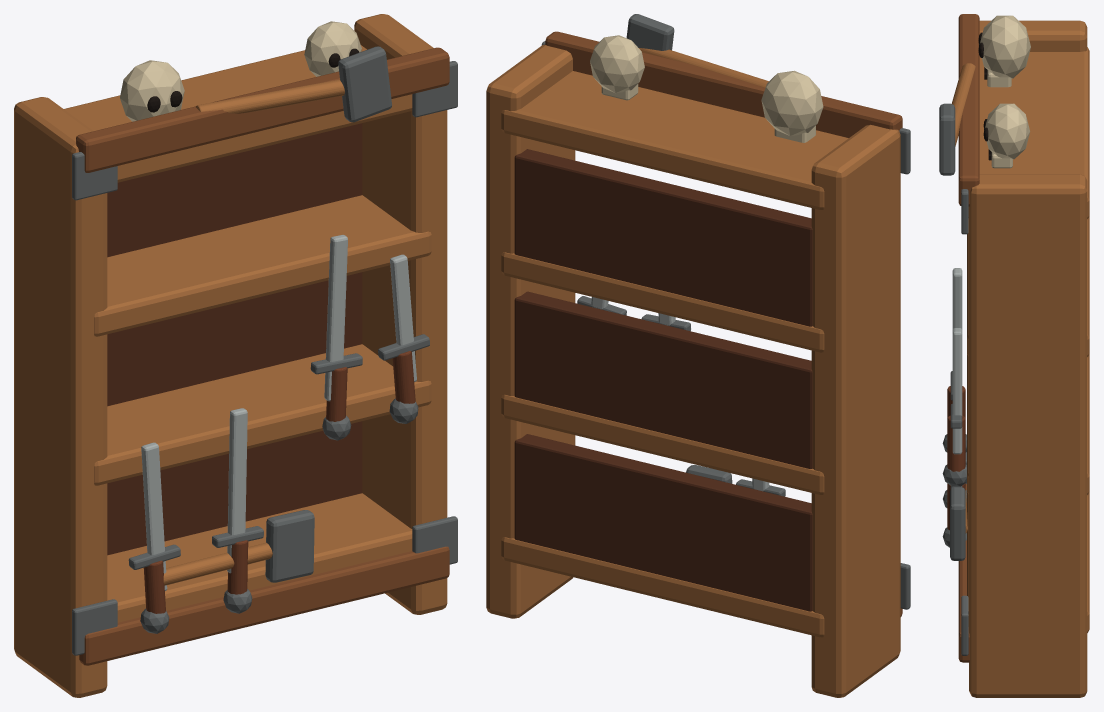
The model's file is estante_armas_cranios.glb.
The picture shows the model from 3 angles, left to right: view 1: azimuth 30°, elevation 25°; view 2: azimuth 150°, elevation 25°; view 3: azimuth 270°, elevation 25°; orthographic projection. The views are drawn at different scales.
Parts seen in each view (by area): view 1: poste esquerdo, poste direito, prateleira.002, prateleira.001, painel traseiro.002, painel traseiro.001, painel traseiro, travessa frontal, prateleira, travessa frontal.001, prateleira.003, machado superior lâmina (+17 smaller); view 2: poste esquerdo, painel traseiro, painel traseiro.001, painel traseiro.002, prateleira.003, poste direito, prateleira.002, prateleira, prateleira.001, travessa frontal.001, crânio esquerdo calota, crânio direito calota (+2 smaller); view 3: poste direito, prateleira.003, travessa frontal.001, crânio esquerdo calota, poste esquerdo, crânio direito calota, espada curta lâmina, machado superior lâmina, machado inferior lâmina, machado superior cabo, travessa frontal, prateleira.001 (+9 smaller).
Part boxes in pixels (x1=…): poste esquerdo: x1=14, y1=97, x2=107, y2=697; poste direito: x1=354, y1=14, x2=447, y2=614; prateleira.002: x1=94, y1=195, x2=431, y2=336; prateleira.001: x1=94, y1=344, x2=431, y2=485; painel traseiro.002: x1=107, y1=123, x2=362, y2=257; painel traseiro.001: x1=107, y1=272, x2=362, y2=406; painel traseiro: x1=107, y1=421, x2=362, y2=555; travessa frontal: x1=79, y1=546, x2=449, y2=665; prateleira: x1=107, y1=493, x2=412, y2=622; travessa frontal.001: x1=76, y1=47, x2=449, y2=172; prateleira.003: x1=64, y1=45, x2=412, y2=182; machado superior lâmina: x1=338, y1=46, x2=391, y2=122; poste esquerdo: x1=811, y1=124, x2=900, y2=697; painel traseiro: x1=514, y1=434, x2=812, y2=611; painel traseiro.001: x1=514, y1=291, x2=812, y2=468; painel traseiro.002: x1=514, y1=149, x2=812, y2=326; prateleira.003: x1=501, y1=71, x2=848, y2=209; poste direito: x1=486, y1=44, x2=575, y2=618; prateleira.002: x1=501, y1=252, x2=824, y2=352; prateleira: x1=501, y1=537, x2=824, y2=637; prateleira.001: x1=501, y1=394, x2=824, y2=494; travessa frontal.001: x1=545, y1=31, x2=902, y2=137; crânio esquerdo calota: x1=761, y1=70, x2=823, y2=135; crânio direito calota: x1=590, y1=35, x2=644, y2=92; poste direito: x1=969, y1=174, x2=1087, y2=697; prateleira.003: x1=968, y1=47, x2=1089, y2=218; travessa frontal.001: x1=958, y1=14, x2=979, y2=206; crânio esquerdo calota: x1=980, y1=15, x2=1030, y2=78; poste esquerdo: x1=979, y1=20, x2=1087, y2=51; crânio direito calota: x1=985, y1=103, x2=1030, y2=159; espada curta lâmina: x1=952, y1=328, x2=962, y2=454; machado superior lâmina: x1=939, y1=103, x2=955, y2=175; machado inferior lâmina: x1=950, y1=487, x2=965, y2=560; machado superior cabo: x1=951, y1=63, x2=975, y2=146; travessa frontal: x1=958, y1=484, x2=969, y2=662; prateleira.001: x1=967, y1=354, x2=1089, y2=494.
Bounding box in the file's own units: 1.94 × 2.91 × 0.7107.
